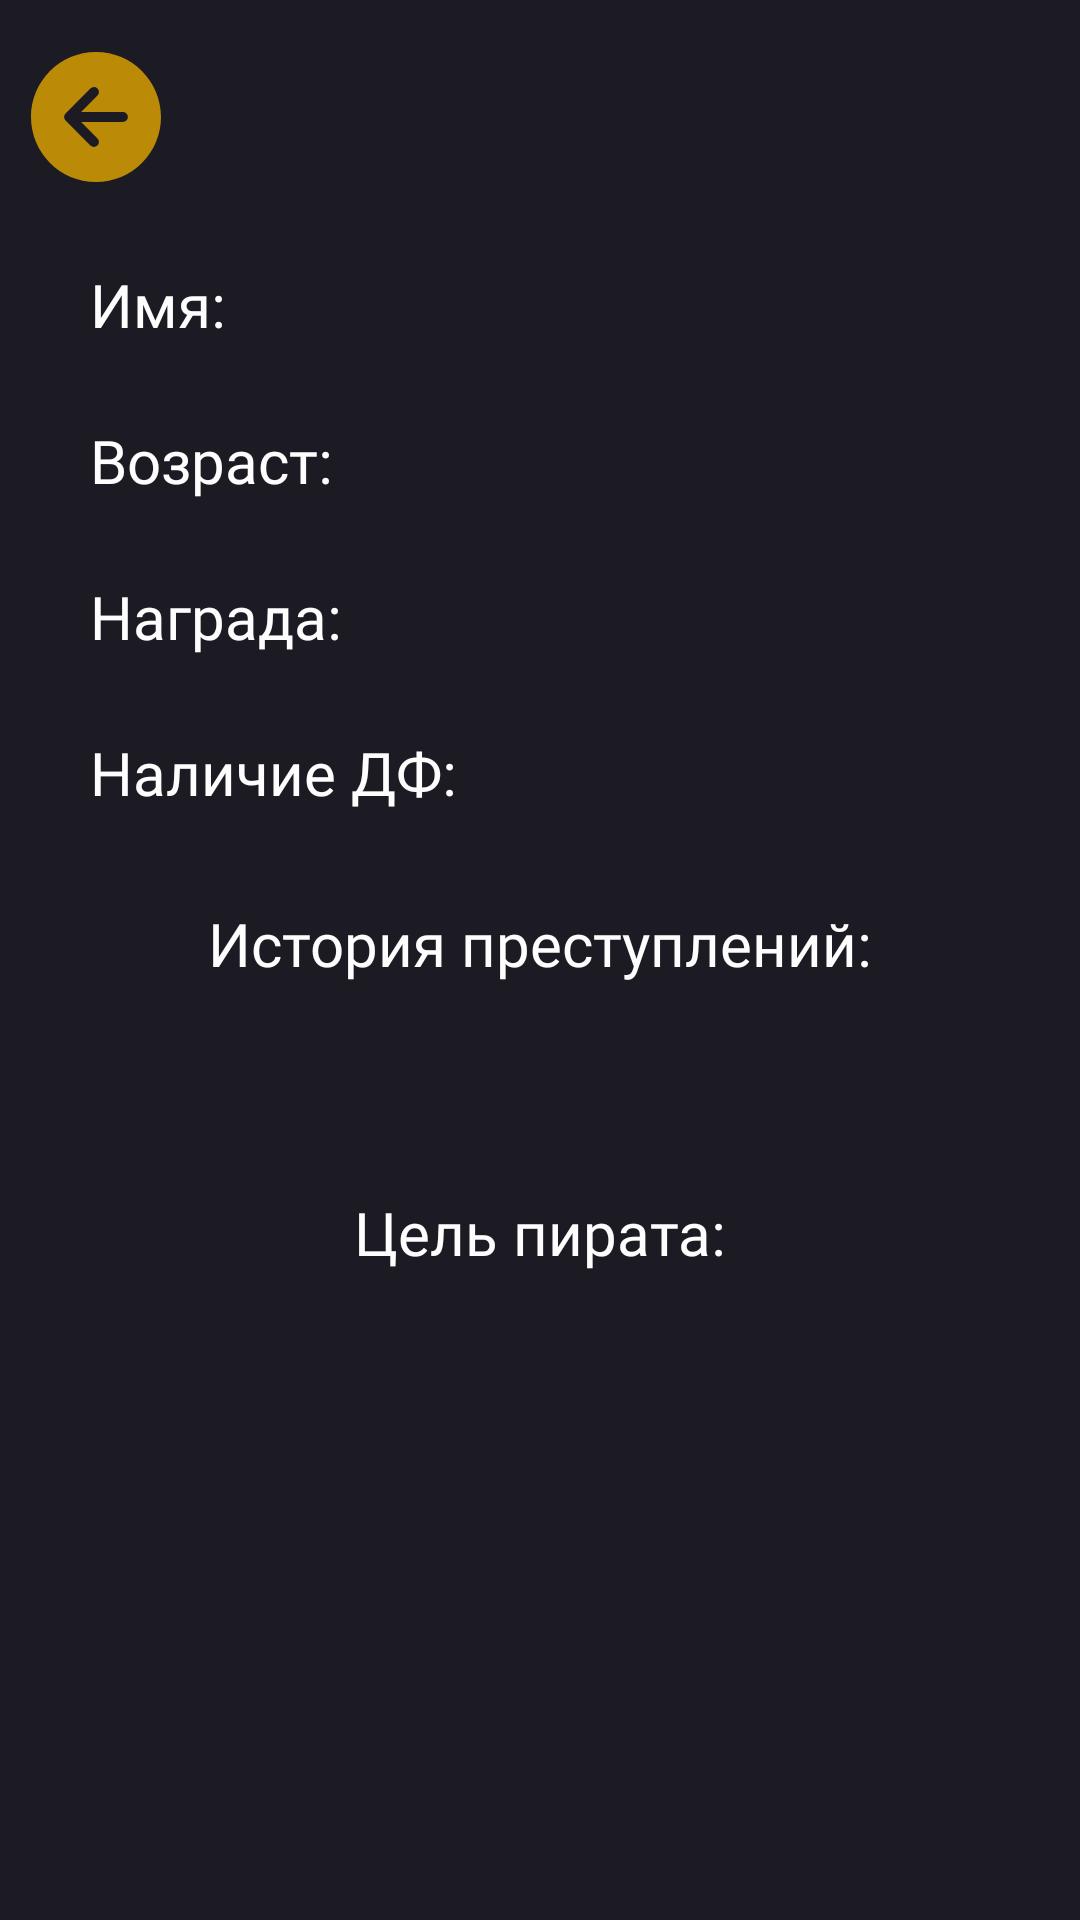

Icon click points for this 1080w x 1920h phone screenshot, format point (x, y):
Вернуться на предыдущий экран: point (96, 117)
